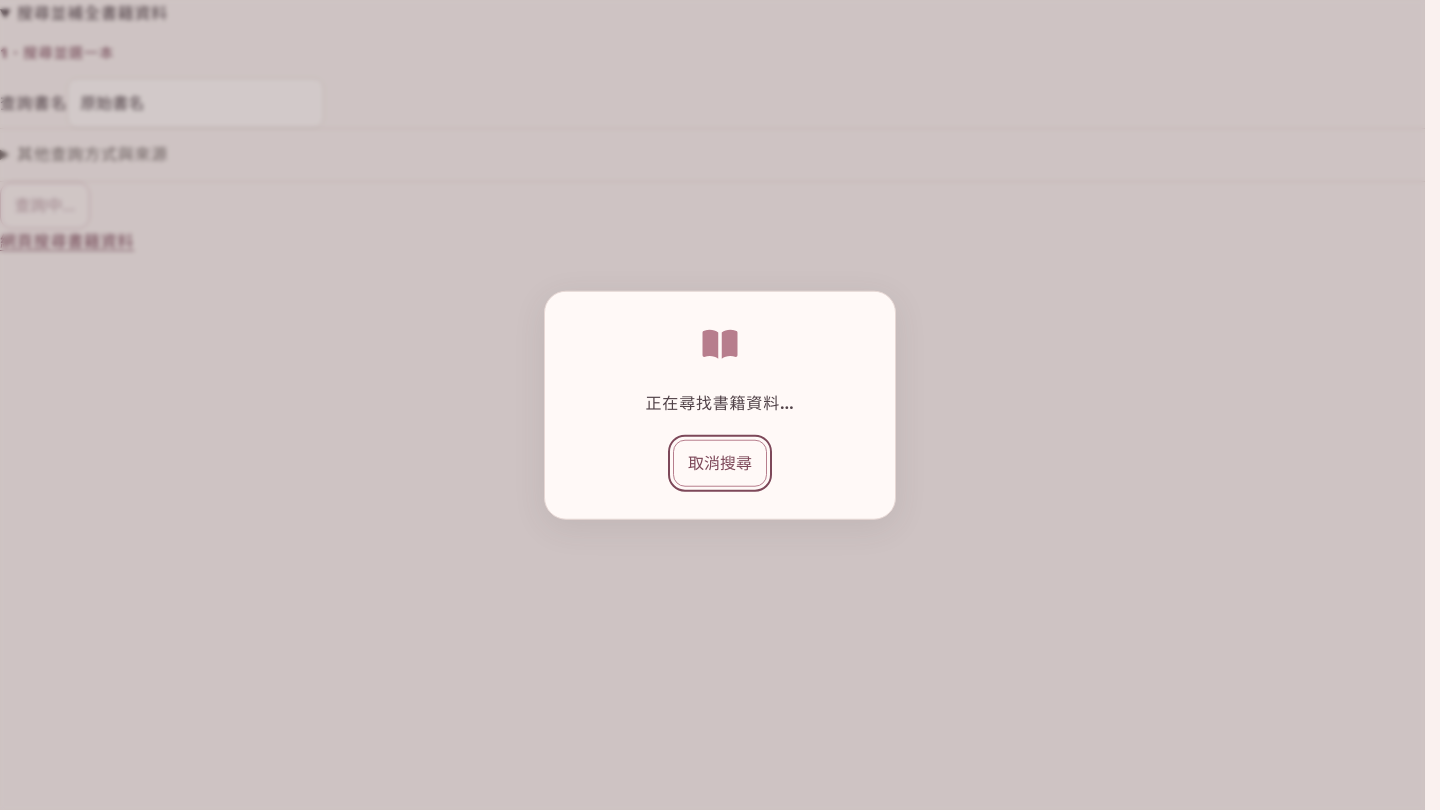
Test: cancels a pending search, ignores late results and allows an explicit retry
The width and height of the screenshot is (1440, 810).
Expected: the dialog "正在尋找書籍資料…" is shown, [544,291,896,519]
Click the button "取消搜尋".
click(720, 463)  # box [673,440,767,486]
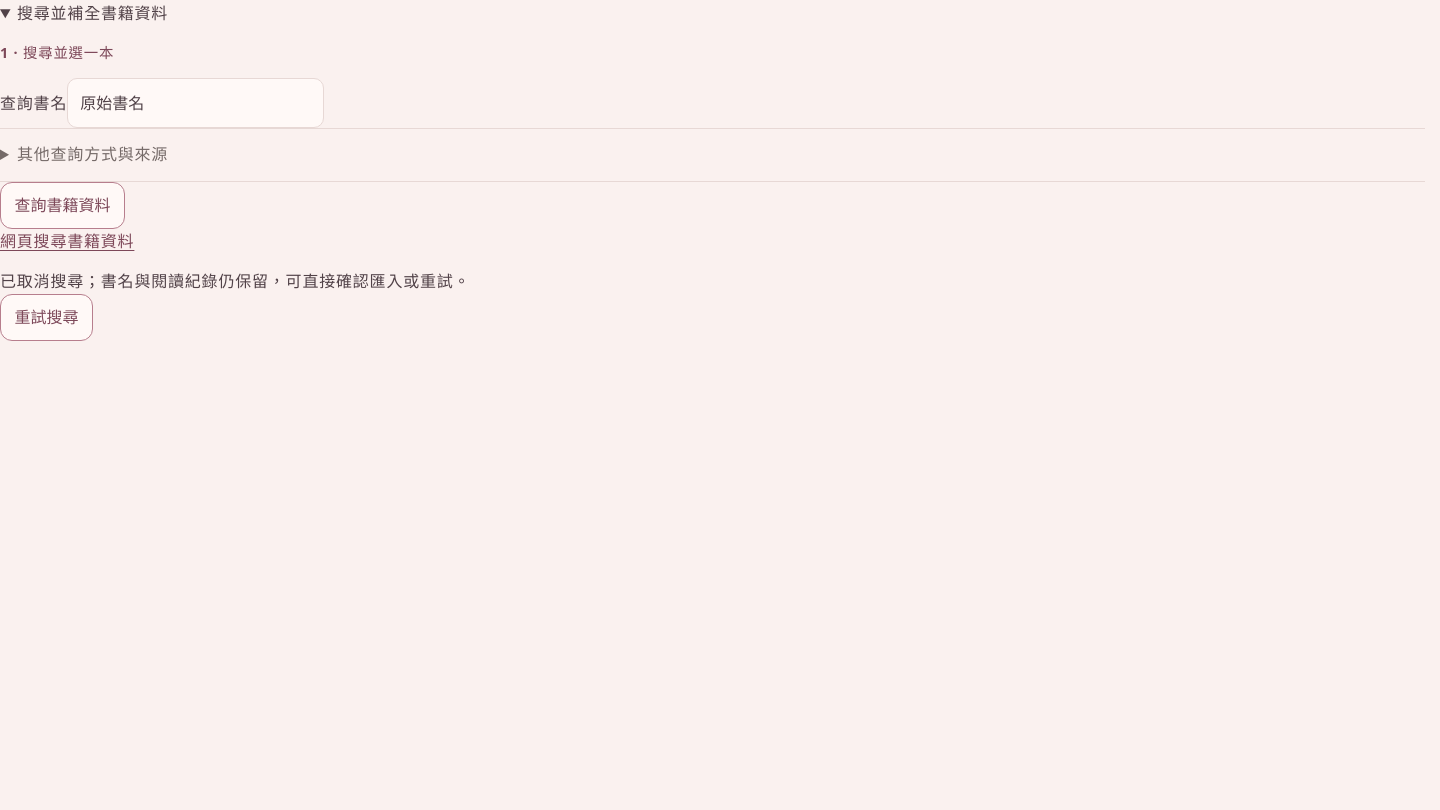
Expected: the dialog is gone
Click the button "重試搜尋".
click(47, 318)  # box [0,294,93,341]
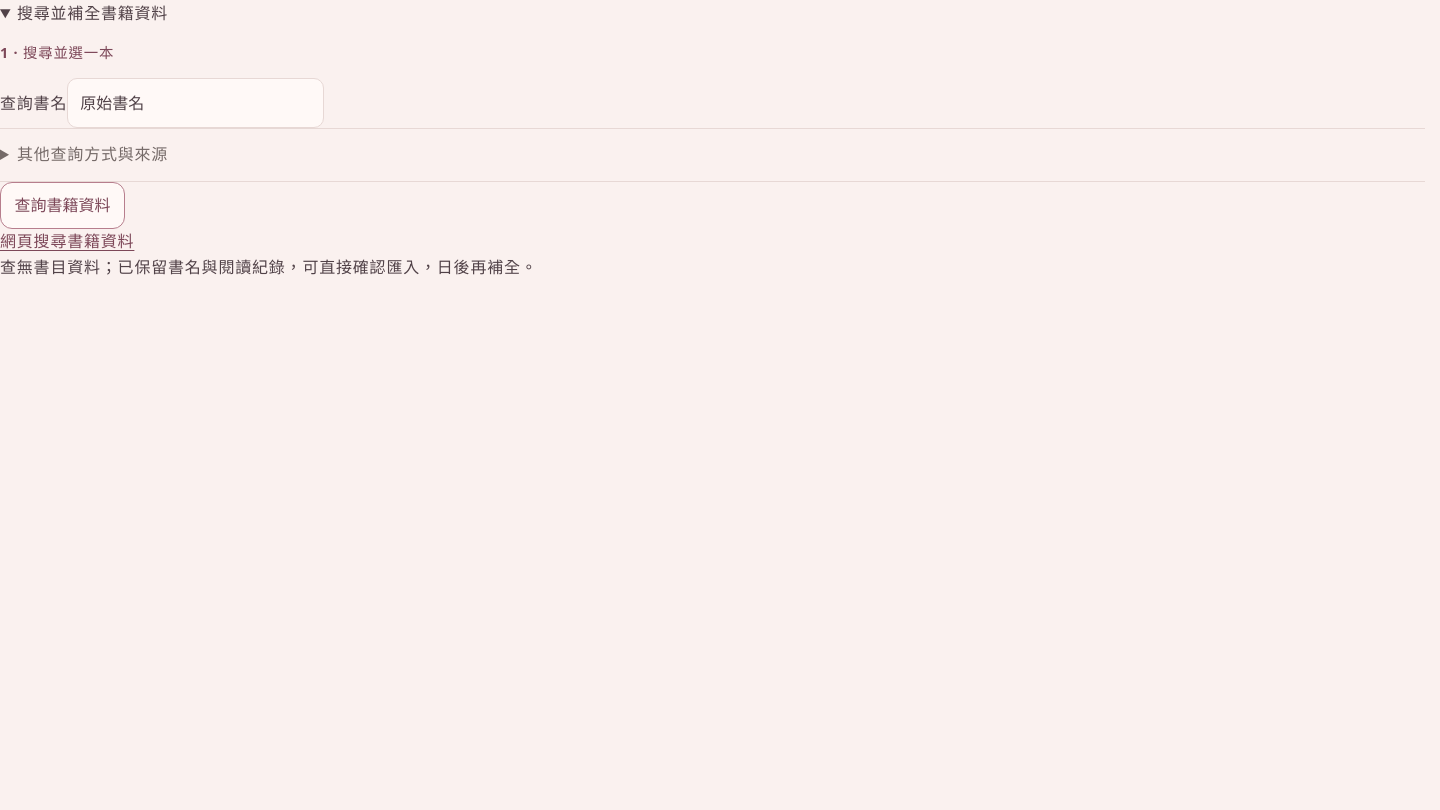
Expected: the field labelled "查詢書名" holds "原始書名", [67,78,324,128]
Expected: the text "查無書目資料；已保留書名與閱讀紀錄，可直接確認匯入，日後再補全。" is shown, [0,256,538,278]
